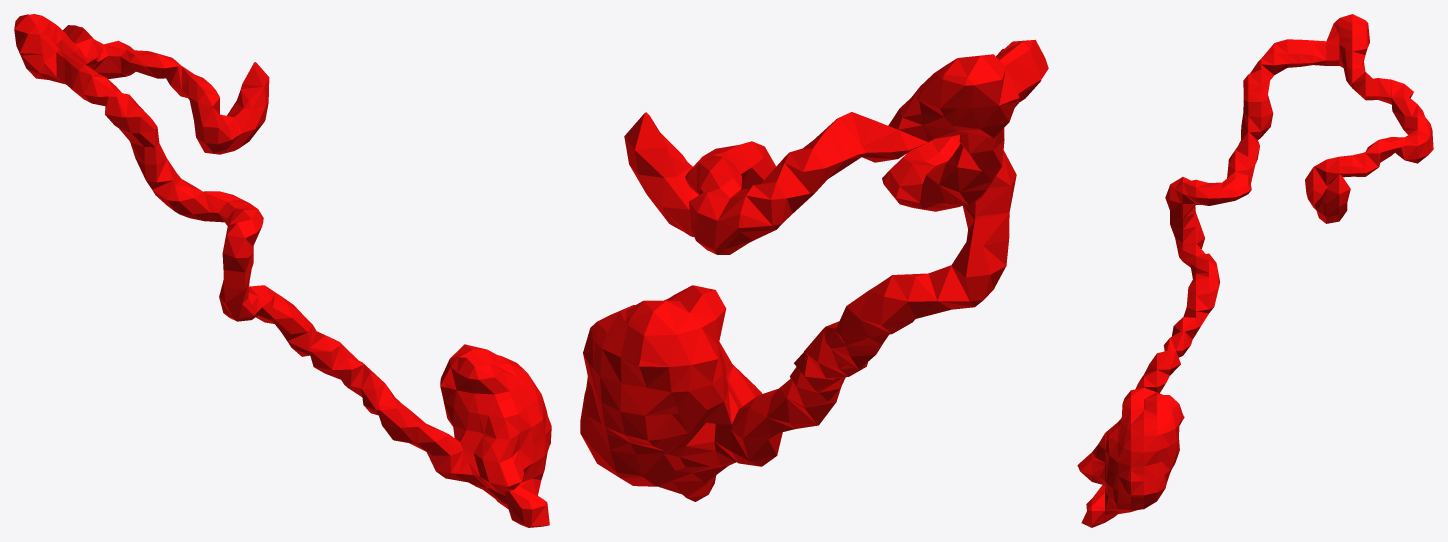
File: tonB_coarse.dae
3 views of the same model, side by side, from view 1: azimuth 30°, elevation 25°; view 2: azimuth 150°, elevation 25°; view 3: azimuth 270°, elevation 25° (orthographic). The views are drawn at different scales.
Visible parts, largest first — view 1: tonB; view 2: tonB; view 3: tonB.
Part boxes in pixels (x1,y1,x2,y2): tonB: (14,14,551,527); tonB: (580,39,1048,501); tonB: (1077,14,1433,527).
Size of the model in its own units: 137 by 156 by 133.
